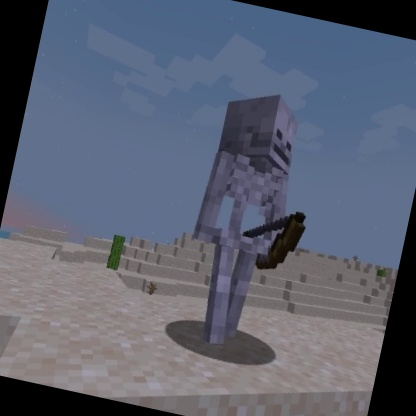skeleton: (166, 77, 337, 366)
